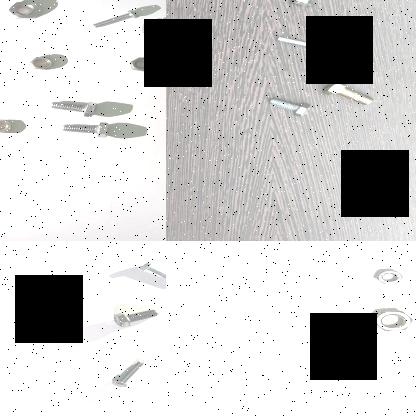Bolts: (318, 75, 374, 104), (42, 96, 107, 120), (85, 6, 145, 30), (106, 358, 150, 389), (264, 92, 314, 119), (52, 118, 114, 138), (111, 305, 159, 329), (131, 258, 166, 286), (272, 35, 328, 52), (282, 0, 325, 7)
NUTS: (360, 305, 416, 334), (3, 0, 43, 20), (122, 54, 158, 74), (366, 268, 404, 286), (138, 18, 166, 38), (28, 55, 56, 71), (0, 114, 18, 138)
